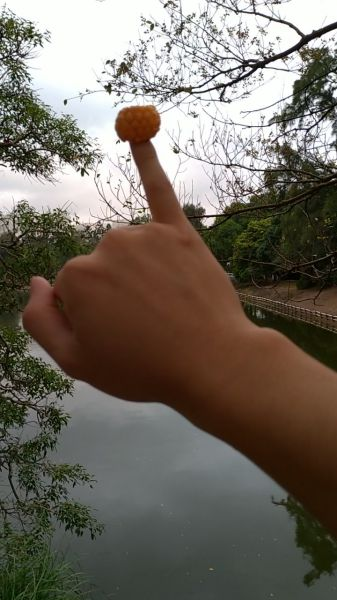eggs: (115, 105, 162, 142)
